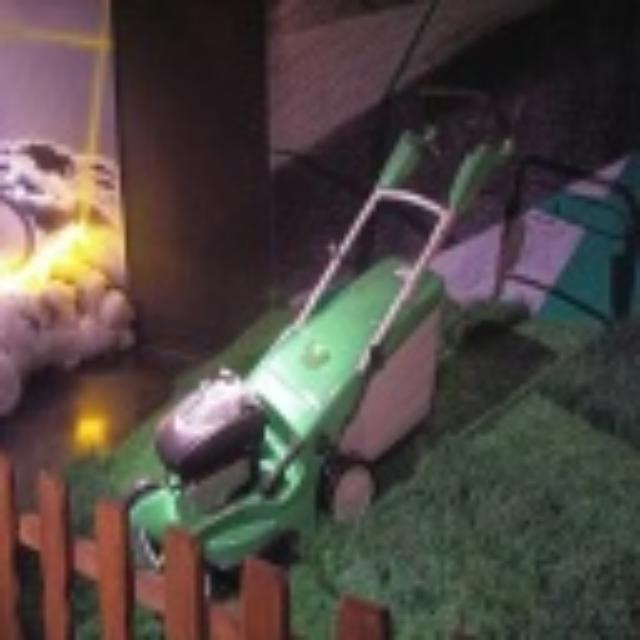Rotary-Mower: (120, 115, 516, 575)
